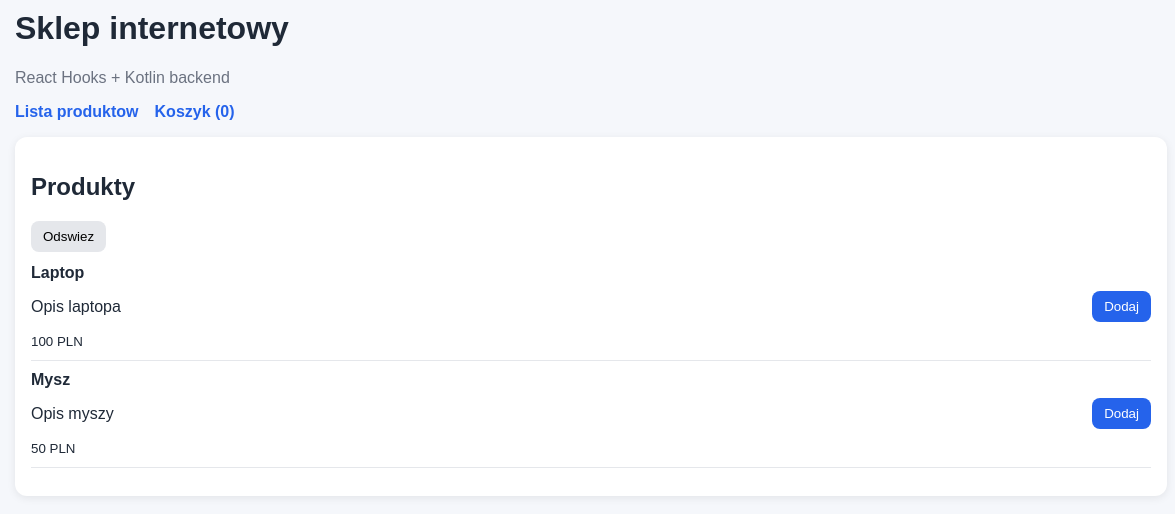
Scenario: App › dodaje produkt do koszyka i aktualizuje licznik
Check: the text "Laptop" is shown, box x1=31 y1=264 x2=84 y2=281
Click the button "Dodaj" in the row of "Opis laptopa" at [1122, 307], box x1=1092 y1=291 x2=1151 y2=322
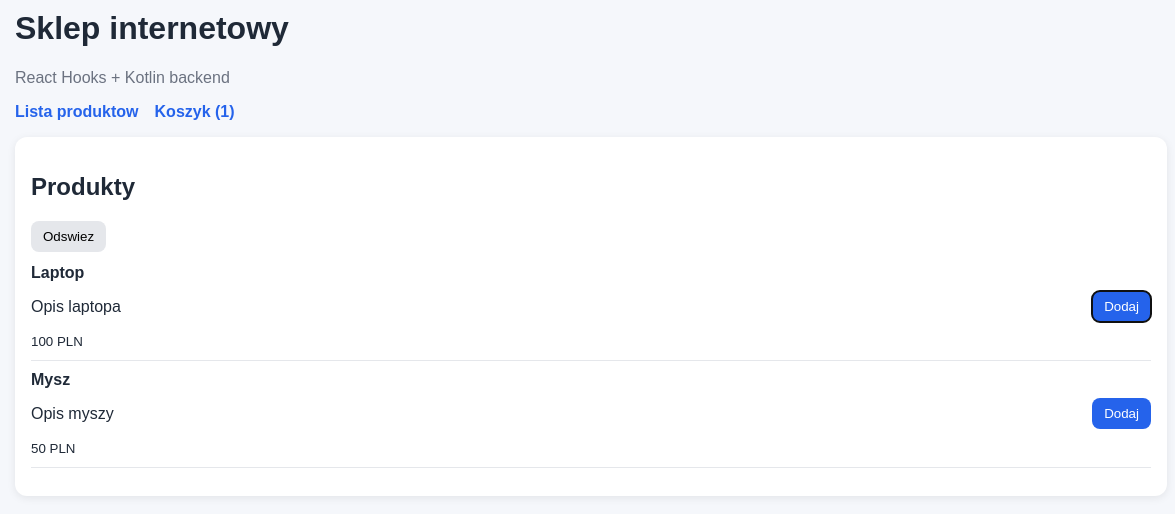
Click the button "Dodaj" in the row of "Opis laptopa" at [1122, 307], box x1=1092 y1=291 x2=1151 y2=322
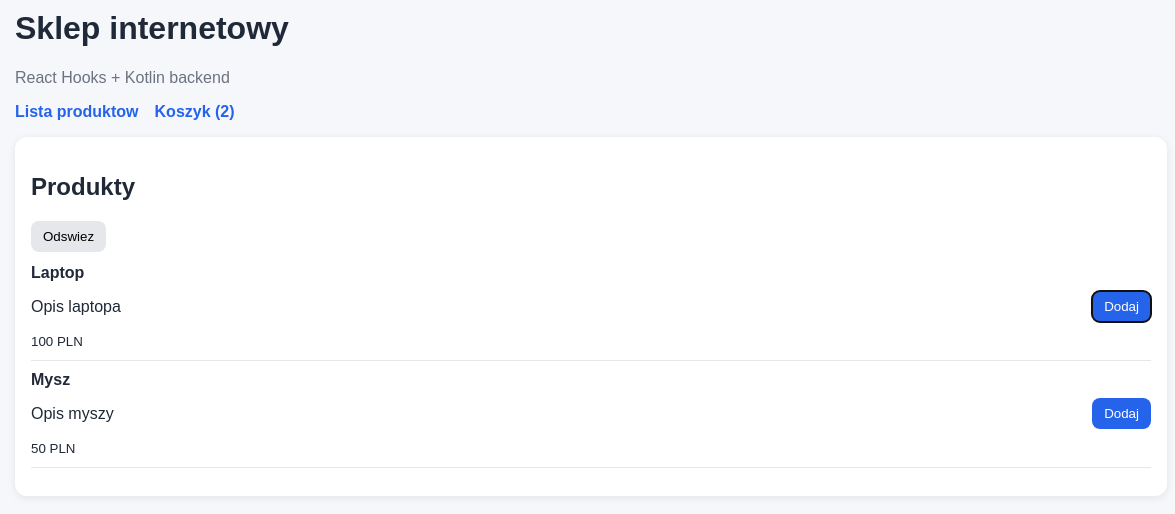
Check: the link "Koszyk (2)" is shown, box x1=155 y1=103 x2=235 y2=121
